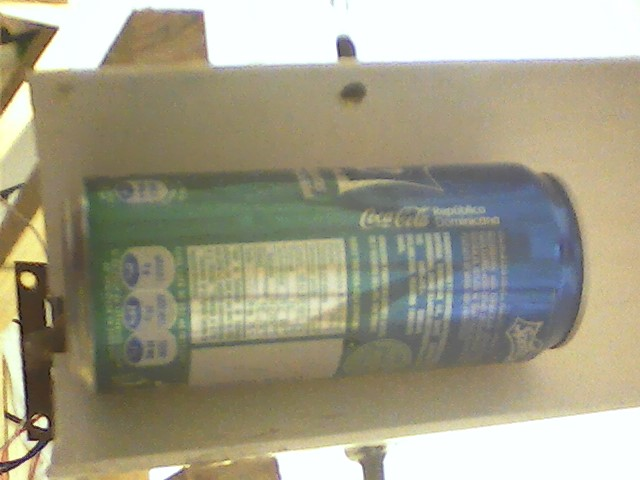lata: (54, 156, 598, 395)
